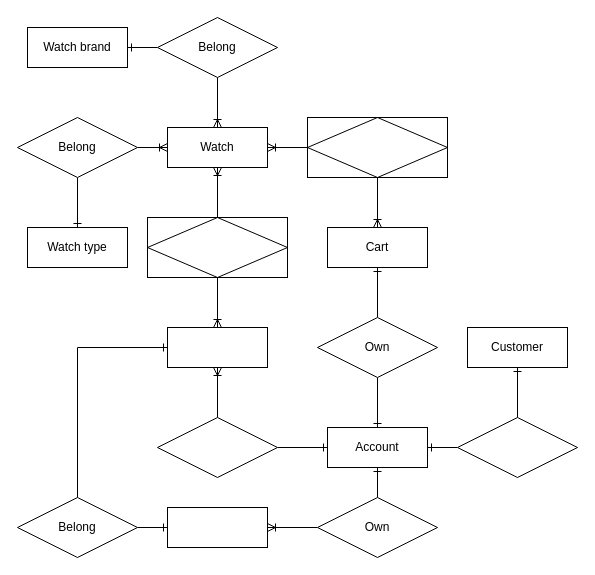
Some shapes in this 595 by 575 pixel diagram are drawn without their labels. The box of each missing label's shape, as (x1, y1, x2, y2) in pixels:
Cart details: (306, 116, 448, 178)
Invoice: (166, 506, 268, 548)
Isa: (456, 416, 578, 478)
Make: (156, 416, 278, 478)
Order: (166, 326, 268, 368)
Order details: (146, 216, 288, 278)
